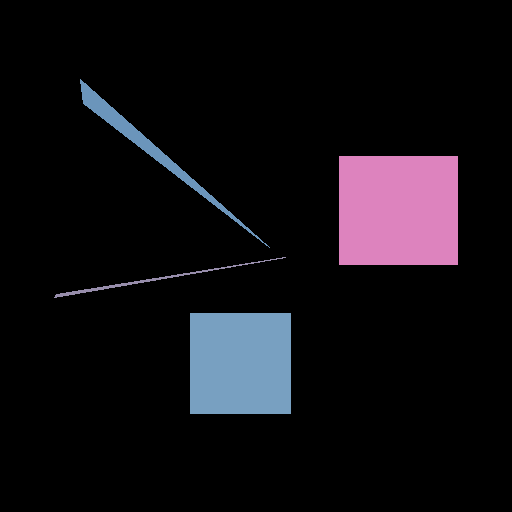square: (339, 156, 457, 264), (190, 313, 290, 413)
triangle: (80, 79, 269, 247)
